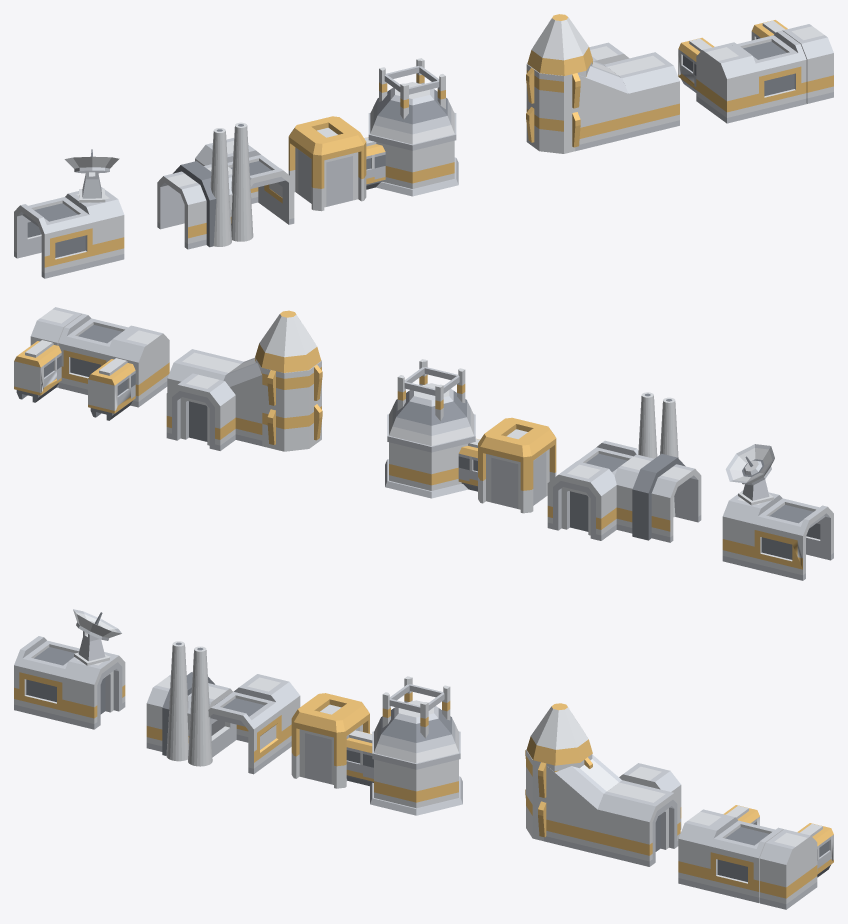
Rendered from buildings_1.fbx.
The picture shows the model from 3 angles, top to bottom: view 1: azimuth 30°, elevation 25°; view 2: azimuth 150°, elevation 25°; view 3: azimuth 330°, elevation 25°; orthographic projection.
Parts seen in each view (by area): view 1: build_3, build_2, build_1, build_factory, build_locator; view 2: build_3, build_2, build_factory, build_1, build_locator; view 3: build_3, build_2, build_factory, build_1, build_locator.
Boxes of the visible parts, <box> form: build_3: <box>288,58,458,211</box>; build_2: <box>526,14,679,153</box>; build_1: <box>678,20,833,123</box>; build_factory: <box>157,122,294,249</box>; build_locator: <box>14,149,124,278</box>; build_3: <box>385,359,556,513</box>; build_2: <box>166,310,322,451</box>; build_factory: <box>547,392,701,542</box>; build_1: <box>14,307,169,420</box>; build_locator: <box>722,444,833,580</box>; build_3: <box>291,676,462,815</box>; build_2: <box>525,703,681,866</box>; build_factory: <box>146,641,300,774</box>; build_1: <box>678,805,833,909</box>; build_locator: <box>14,609,125,729</box>.
Bounding box in the file's own units: 10.24 × 1.55 × 1.27.
